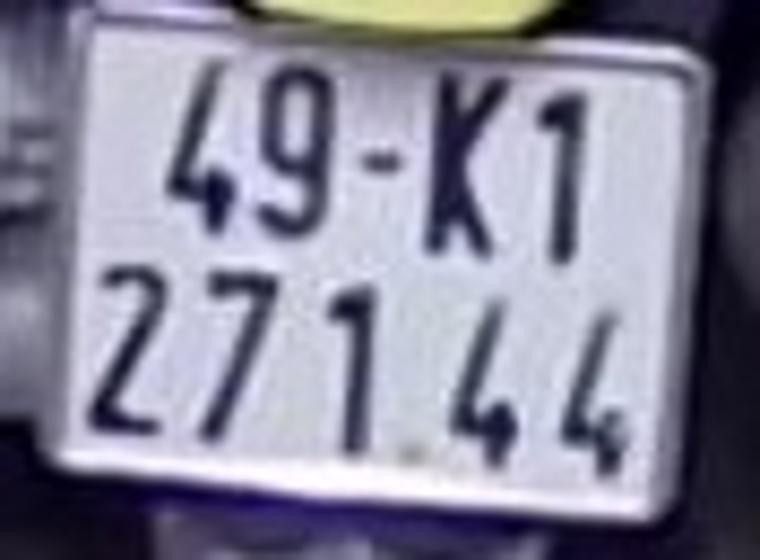-: (361, 147, 401, 182)
.: (397, 437, 429, 475)
1: (534, 81, 588, 265), (326, 275, 379, 461)
2: (86, 263, 171, 439)
4: (446, 295, 524, 471), (164, 66, 240, 234), (561, 315, 634, 479)
7: (192, 272, 281, 446)
9: (258, 60, 336, 239)
K: (421, 72, 512, 261)
